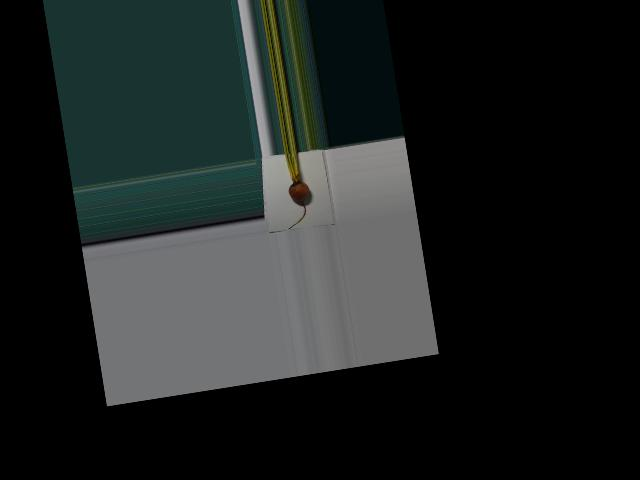beet: (277, 151, 314, 229)
